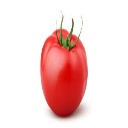tomato: (40, 27, 88, 116)
